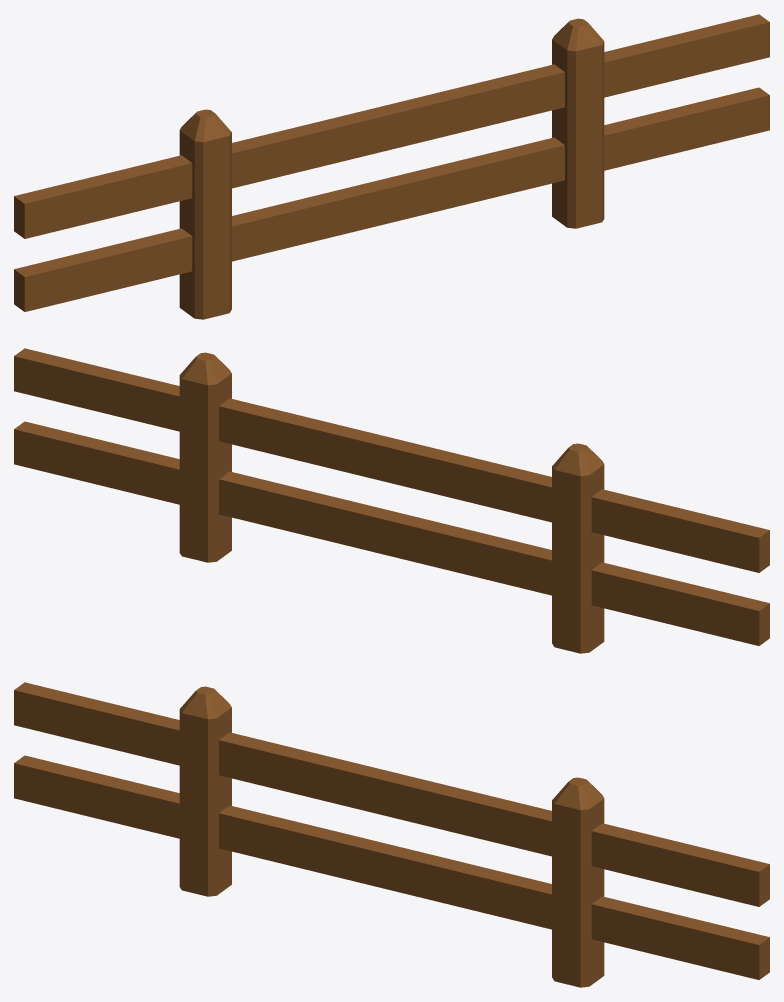
The model's file is ENV_Plot_Fence.fbx.
3 views of the same model, one above another, from view 1: azimuth 30°, elevation 25°; view 2: azimuth 150°, elevation 25°; view 3: azimuth 330°, elevation 25° (orthographic).
Parts seen in each view (by area): view 1: Fence; view 2: Fence; view 3: Fence.
Boxes of the visible parts, bbox=[...] form: Fence: bbox=[14, 14, 769, 319]; Fence: bbox=[14, 348, 769, 653]; Fence: bbox=[14, 682, 769, 987].
Bounding box in the file's own units: 8 × 2 × 0.4.
